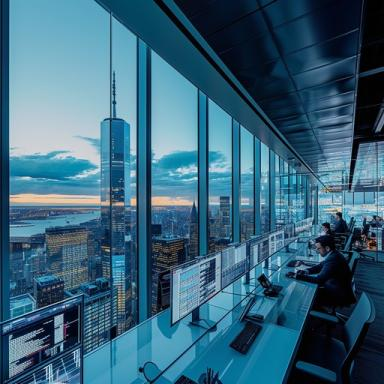glass_panel: (9, 0, 113, 352), (151, 52, 199, 314), (116, 38, 138, 329), (208, 100, 232, 252), (240, 126, 254, 242), (260, 142, 270, 234)
